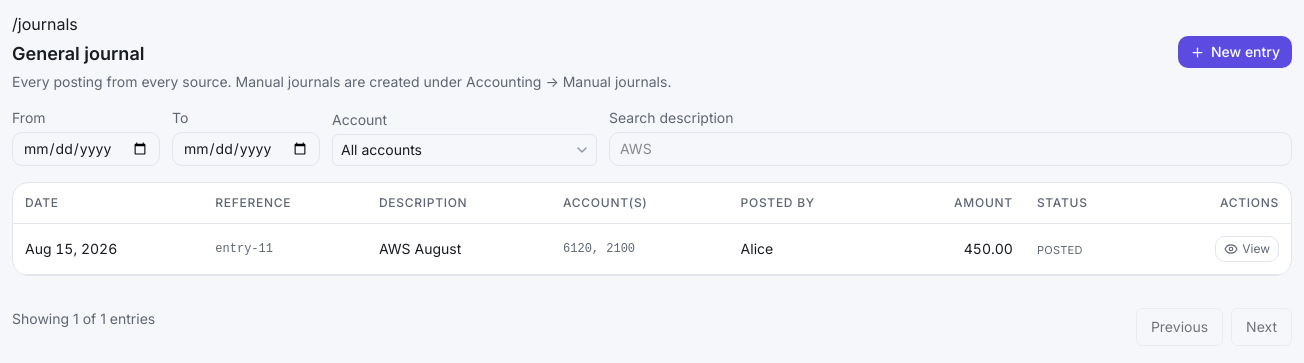
Test: JournalsPage › puts the description filter into the URL as q
Expected: the text "AWS August" is shown, [367,223,551,274]
Type "aws" into the field labelled "Search description".
click(950, 148); type("aws")  # box [609,132,1292,166]
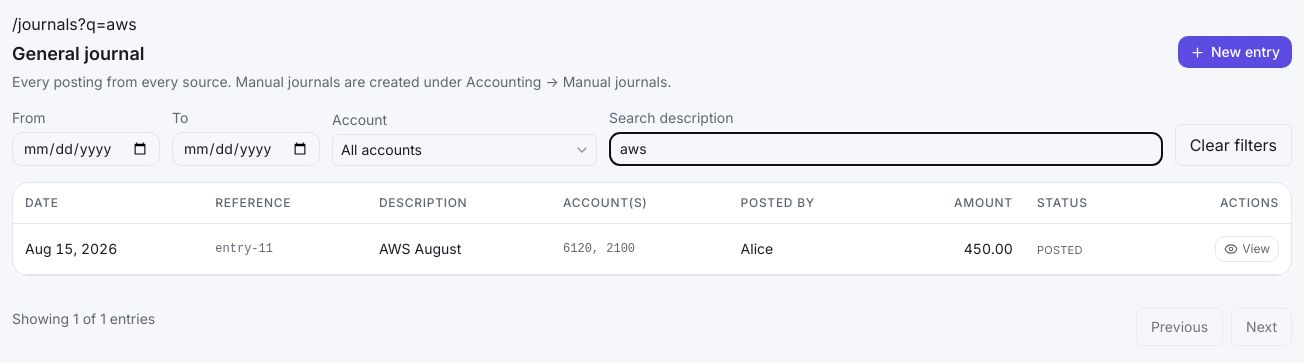
Result: the text with test id "location" shows "q=aws" at [12,14,137,34]
